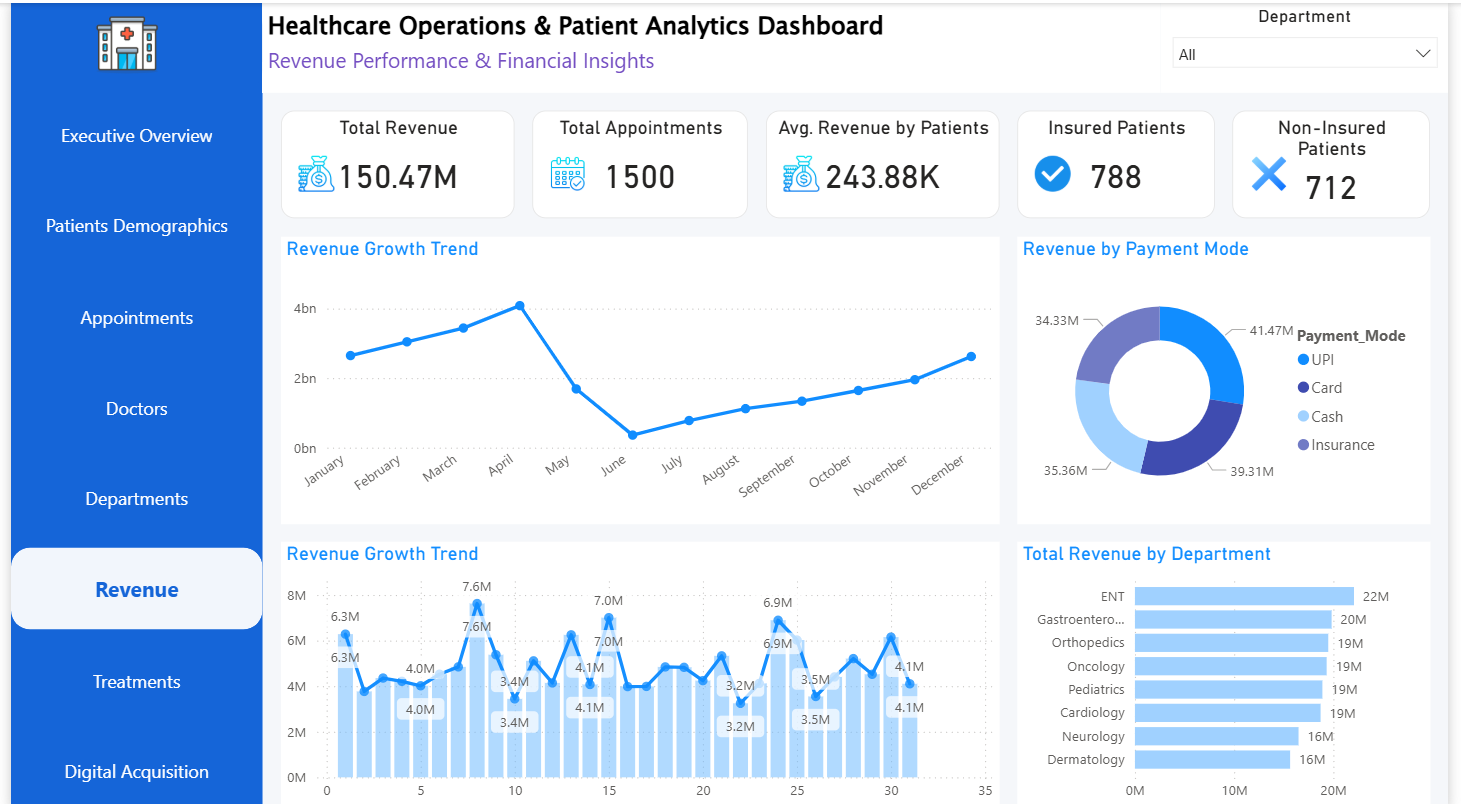

The page's visual inventory and layout, read from the dashboard file:
{"tool":"powerbi","page":{"name":"Revenue","canvas":[1280,720],"ordinal":5},"visuals":[{"type":"shape","box":[0,0,224,80],"z":0,"group":"g1"},{"type":"card","title":"Total Revenue","fields":{"Values":["Sum(Revenue.Revenue_Amount)"]},"box":[240,96,208,96],"z":0},{"type":"image","box":[64,0,80,64],"z":1000,"group":"g1"},{"type":"card","title":"Total Appointments","fields":{"Values":["CountNonNull(Revenue.Visit_ID)"]},"box":[464,96,192,96],"z":1000},{"type":"clusteredBarChart","title":"Total Revenue by Department","fields":{"Category":["vw_Department_Revenue.Department_Name"],"Y":["Sum(vw_Department_Revenue.Total_Revenue)"]},"box":[896,480,368,240],"z":2000},{"type":"lineChart","title":"Revenue Growth Trend","fields":{"Category":["vw_Running_Revenue.Billing_Date.Variation.Date Hierarchy.Month"],"Y":["Sum(vw_Running_Revenue.Running_Revenue)"]},"box":[240,208,640,256],"z":3000},{"type":"donutChart","title":"Revenue by Payment Mode","fields":{"Category":["Revenue.Payment_Mode"],"Y":["Sum(Revenue.Revenue_Amount)"]},"box":[896,208,368,256],"z":4000},{"type":"lineStackedColumnComboChart","title":"Revenue Growth Trend","fields":{"Category":["vw_Running_Revenue.Billing_Date.Variation.Date Hierarchy.Day"],"Y":["Sum(vw_Running_Revenue.Daily_Revenue)"],"Y2":["Sum(vw_Running_Revenue.Daily_Revenue)"]},"box":[240,480,640,240],"z":5000},{"type":"card","title":"Insured Patients","fields":{"Values":["Revenue.Insured Patients"]},"box":[896,96,176,96],"z":6000},{"type":"card","title":"Non-Insured Patients","fields":{"Values":["Revenue.Non-Insured Patients"]},"box":[1088,96,176,96],"z":7000},{"type":"card","title":"Avg. Revenue by Patients","fields":{"Values":["Revenue.Avg Revenue Per Patient"]},"box":[672,96,208,96],"z":8000},{"type":"pageNavigator","box":[0,80,224,640],"z":9000},{"type":"group","id":"g1","title":"Group 1","box":[0,0,224,80],"z":10000},{"type":"textbox","box":[224,0,800,80],"z":11000},{"type":"slicer","title":"Department","fields":{"Values":["Departments.Department_Name"]},"box":[1024,0,256,80],"z":12000},{"type":"image","box":[256,128,32,48],"z":13000},{"type":"image","box":[480,128,32,48],"z":14000},{"type":"image","box":[688,128,32,48],"z":15000},{"type":"image","box":[912,128,32,48],"z":16000},{"type":"image","box":[1104,128,32,48],"z":17000}]}

Visuals, with their boxes in screenshot pixels (x1, y1, x2, y2), scaled from the page's 1280x720 canvas onto the 1461x804 screenshot:
shape: (left=0, top=0, right=256, bottom=89)
"Total Revenue" card: (left=274, top=107, right=511, bottom=214)
image: (left=73, top=0, right=164, bottom=71)
"Total Appointments" card: (left=530, top=107, right=749, bottom=214)
"Total Revenue by Department" clusteredBarChart: (left=1023, top=536, right=1443, bottom=803)
"Revenue Growth Trend" lineChart: (left=274, top=232, right=1004, bottom=518)
"Revenue by Payment Mode" donutChart: (left=1023, top=232, right=1443, bottom=518)
"Revenue Growth Trend" lineStackedColumnComboChart: (left=274, top=536, right=1004, bottom=803)
"Insured Patients" card: (left=1023, top=107, right=1224, bottom=214)
"Non-Insured Patients" card: (left=1242, top=107, right=1443, bottom=214)
"Avg. Revenue by Patients" card: (left=767, top=107, right=1004, bottom=214)
pageNavigator: (left=0, top=89, right=256, bottom=803)
"Group 1" group: (left=0, top=0, right=256, bottom=89)
textbox: (left=256, top=0, right=1169, bottom=89)
"Department" slicer: (left=1169, top=0, right=1460, bottom=89)
image: (left=292, top=143, right=329, bottom=197)
image: (left=548, top=143, right=584, bottom=197)
image: (left=785, top=143, right=822, bottom=197)
image: (left=1041, top=143, right=1077, bottom=197)
image: (left=1260, top=143, right=1297, bottom=197)
